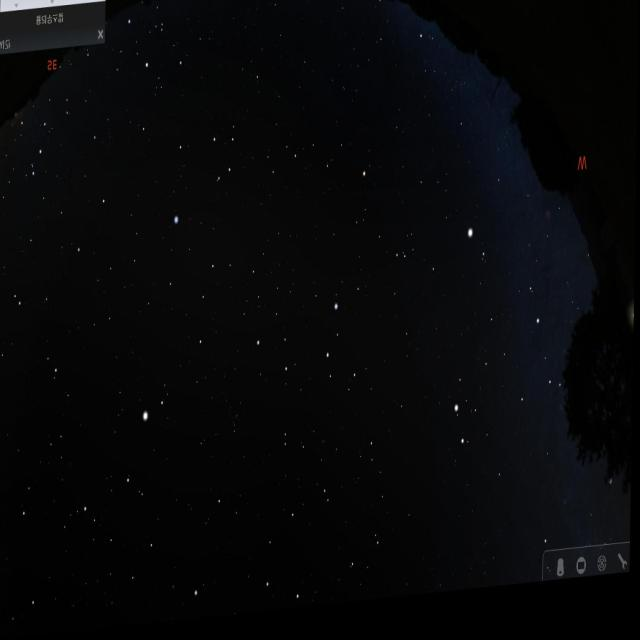bootes: (97, 397, 176, 595)
canis_minor: (457, 221, 497, 282)
gemini: (458, 320, 557, 462)
leo: (254, 284, 387, 413)
